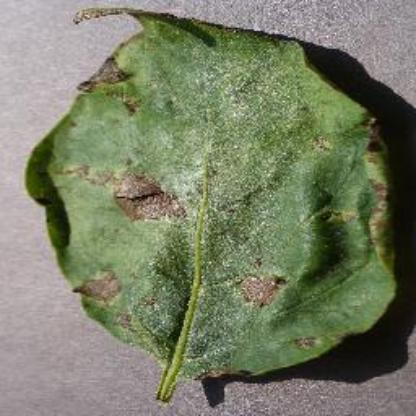Early-Blight: (21, 1, 416, 407)
